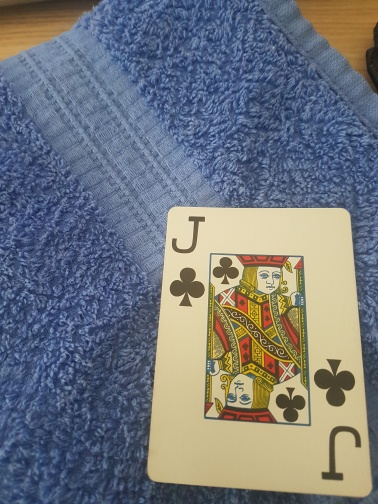jack: (144, 205, 378, 498)
